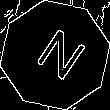N_SW: (24, 23, 86, 87)
